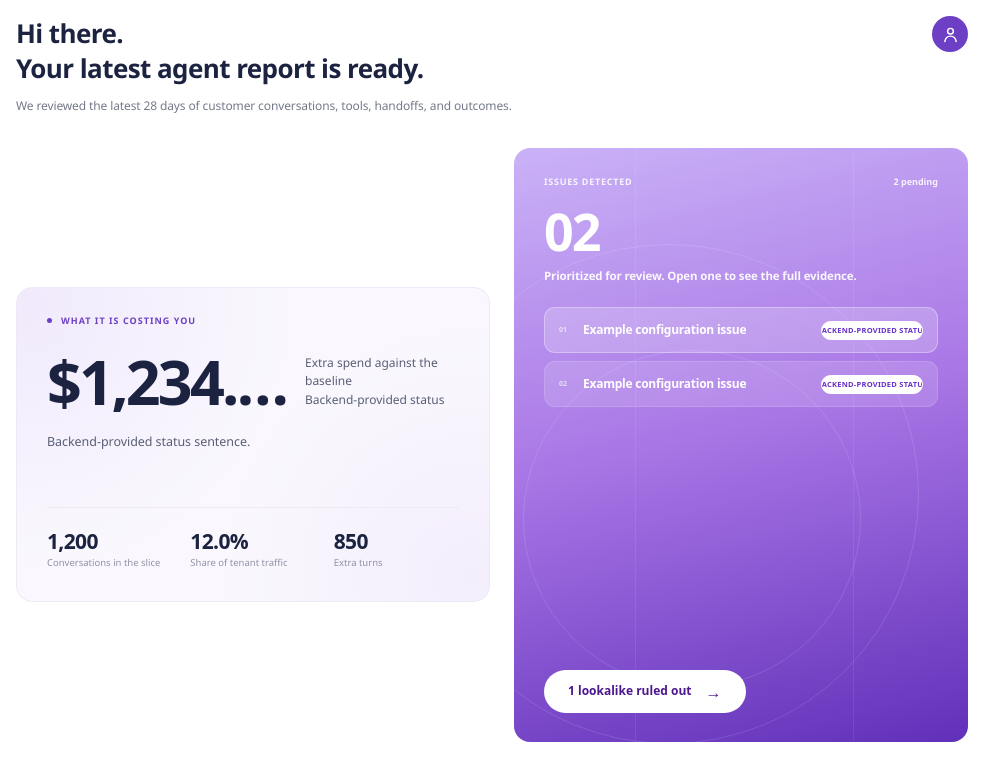
Test case: Nexus Loop overview › shows backend-dismissed lookalikes in a compact disclosure with evidence last
Click the button with aria-label "1 lookalike ruled out by the engine".
click(645, 692)  # box [544,670,746,713]
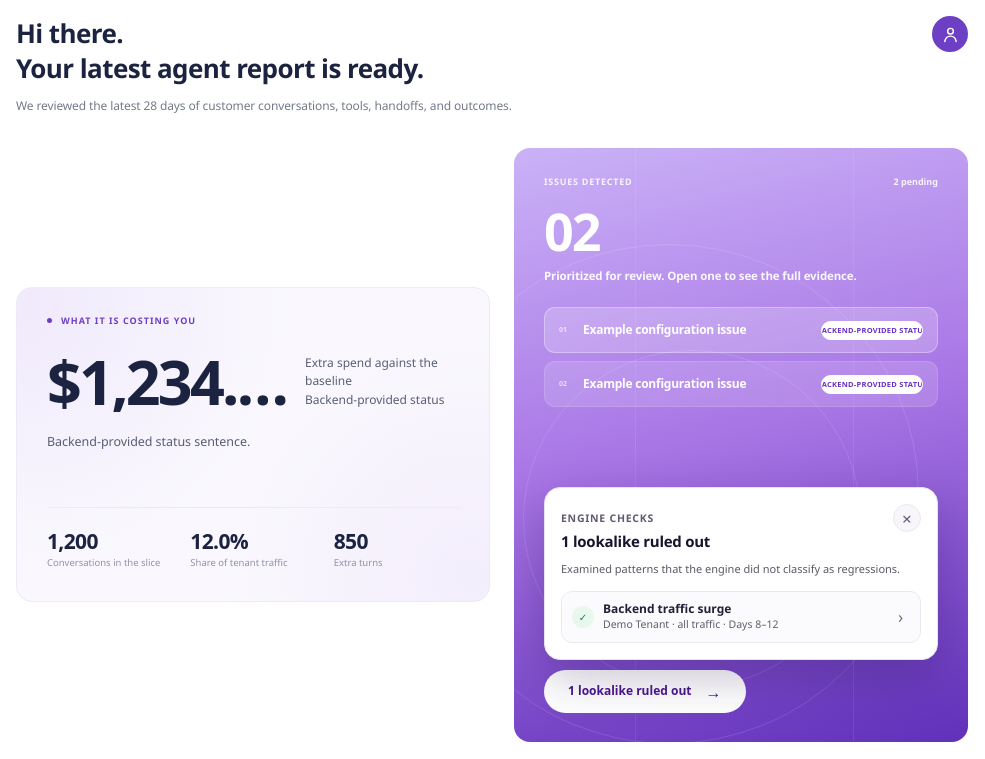
Check: the button with aria-label "1 lookalike ruled out by the engine" is expanded, box [544,670,746,713]
Check: the text "Backend traffic surge" is shown
Check: the text "Demo Tenant · all traffic · Days 8–12" is shown, box [603,618,778,632]
Click the text "Backend traffic surge".
click(667, 608)  # box [603,600,731,617]
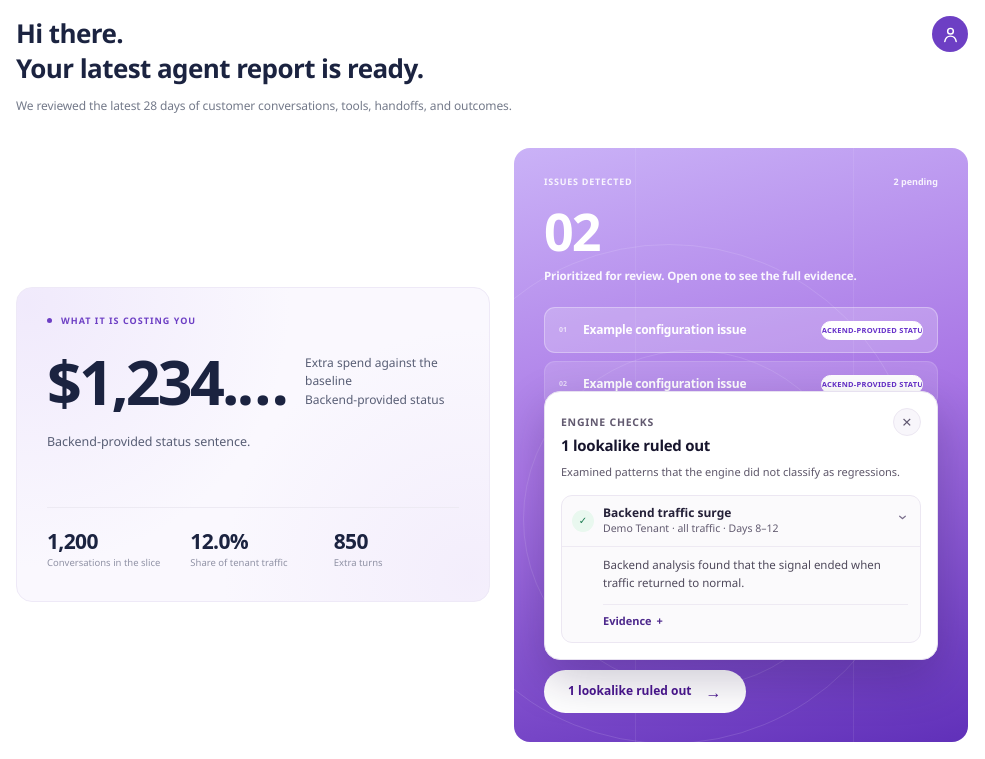
Check: the text "Backend analysis found that the signal ended when traffic returned to normal." is shown, box [603,557,908,594]
Click the heading "Evidence".
click(627, 621)  # box [603,614,652,628]
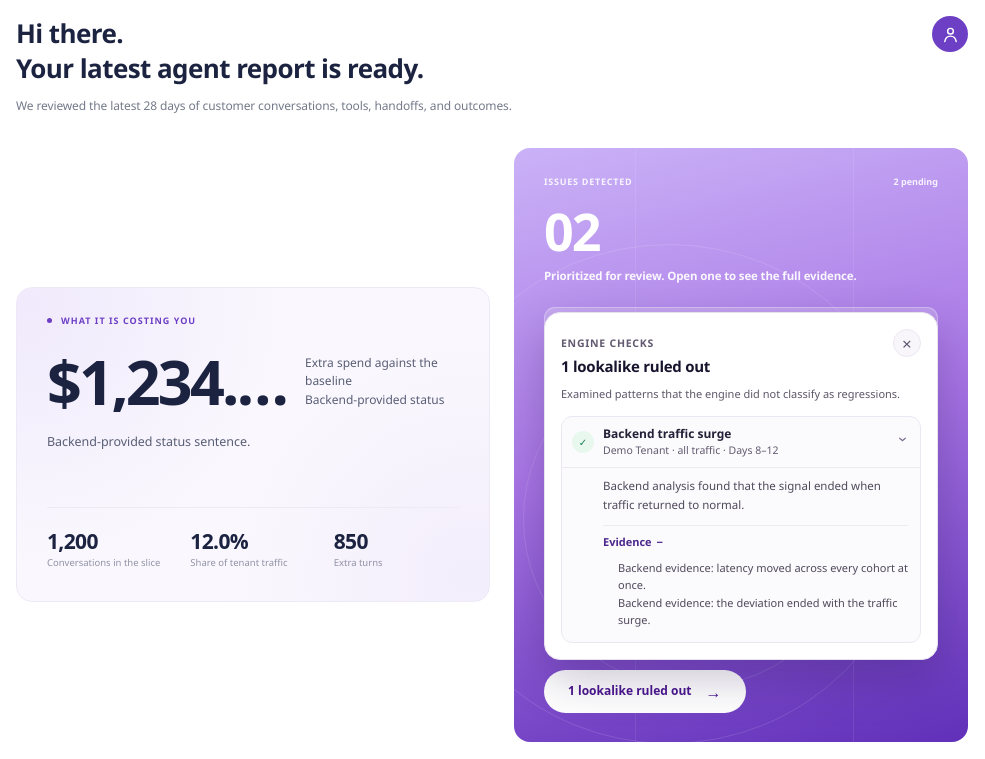
Check: the list item "Backend evidence: latency moved across every cohort at once." is shown, box [618,560,908,595]
Check: the list item "Backend evidence: the deviation ended with the traffic surge." is shown, box [618,595,908,630]
